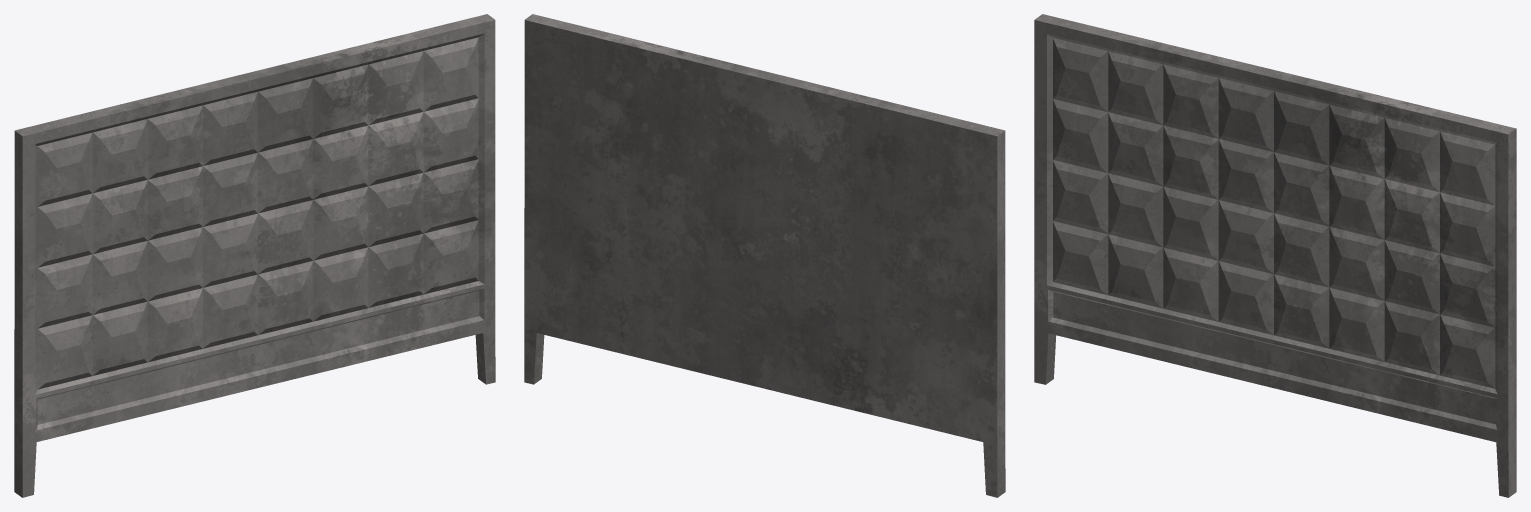
3 renders of one model, left to right at view 1: azimuth 30°, elevation 25°; view 2: azimuth 150°, elevation 25°; view 3: azimuth 330°, elevation 25°, orthographic.
Parts seen in each view (by area): view 1: Cube; view 2: Cube; view 3: Cube.
Boxes of the visible parts, x1,y1,x2,y2 form: Cube: (14,14,495,497); Cube: (524,14,1005,497); Cube: (1034,14,1516,497).
Bounding box in the file's own units: 338 × 248 × 11.99.
